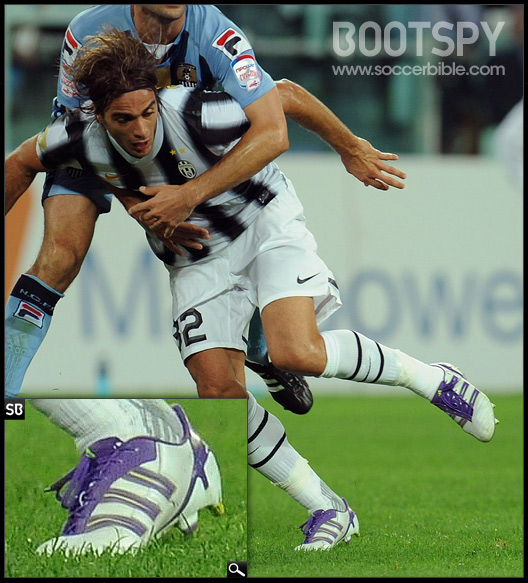football boots: (32, 403, 225, 556), (426, 363, 502, 443), (294, 496, 360, 552)
